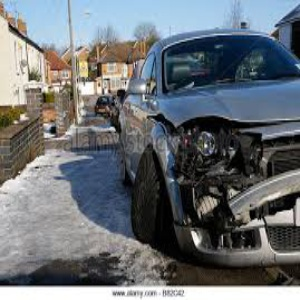bumper: (168, 183, 300, 264)
